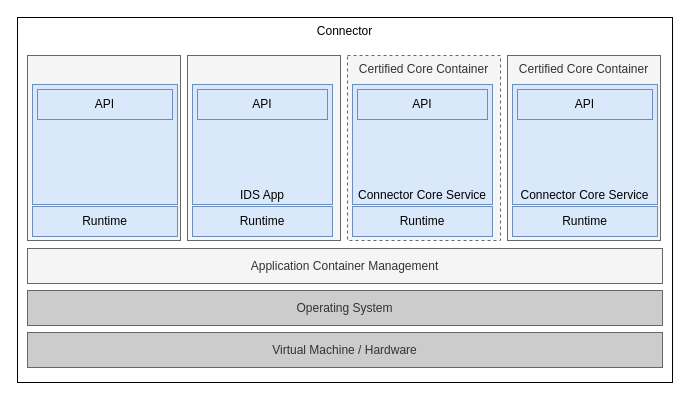
Image size: 690x400. Some labels were removed from this diagram. The shapes that lost their labels are listed below. From the top down, each one's box as (x1, y1, x2, y2) in pixels, then its label:
(26, 54, 180, 240): Custom Container
(32, 84, 178, 204): Custom App
(186, 54, 340, 240): Certified App Container
